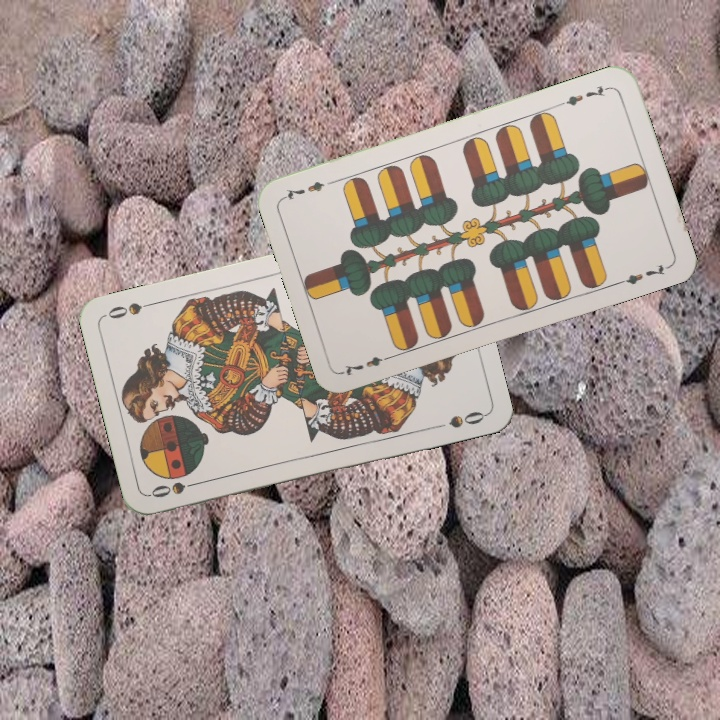E7: (339, 350, 397, 379), (555, 81, 613, 109)
SO: (147, 476, 205, 500)
